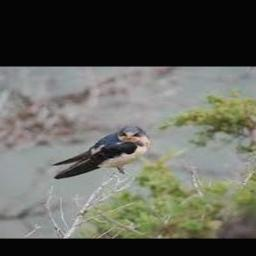Swallow: (51, 125, 149, 178)
